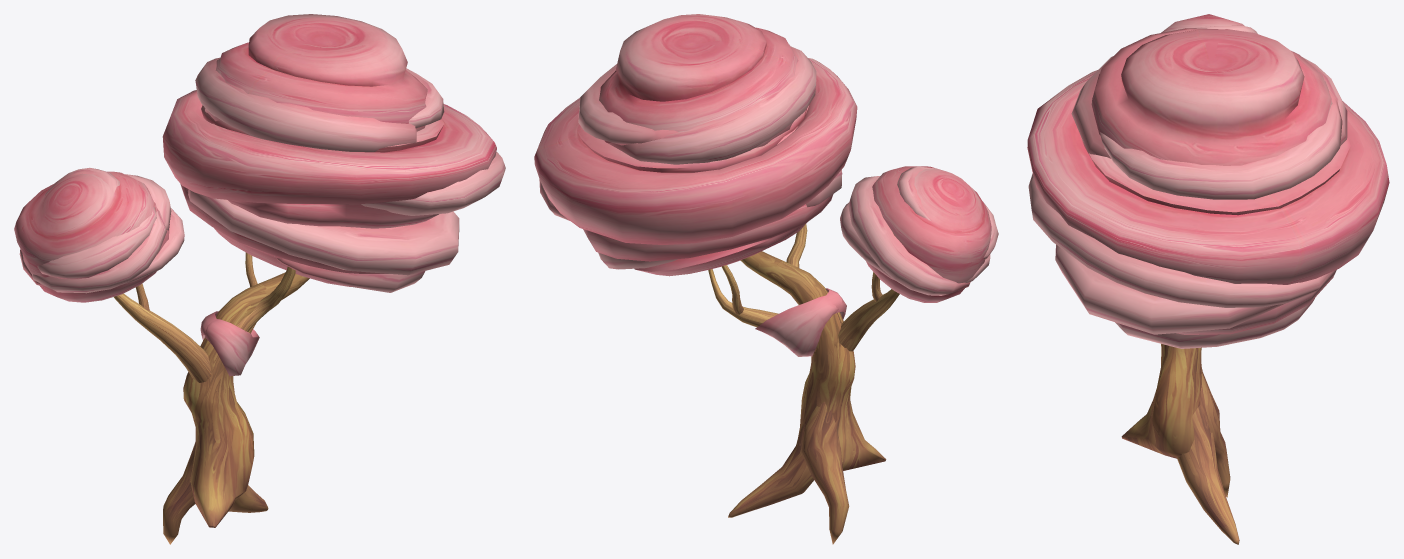
File: SE_CottonCandyTree_04.fbx
The picture shows the model from 3 angles, left to right: view 1: azimuth 30°, elevation 25°; view 2: azimuth 150°, elevation 25°; view 3: azimuth 270°, elevation 25°; orthographic projection. The views are drawn at different scales.
Visible parts, largest first — view 1: SE_CottonCandyTree_04; view 2: SE_CottonCandyTree_04; view 3: SE_CottonCandyTree_04.
Part boxes in pixels (x1,y1,x2,y2): SE_CottonCandyTree_04: [14, 14, 505, 544]; SE_CottonCandyTree_04: [534, 14, 998, 544]; SE_CottonCandyTree_04: [1027, 14, 1389, 544].
Bounding box in the file's own units: 15.92 × 16.37 × 10.27.
